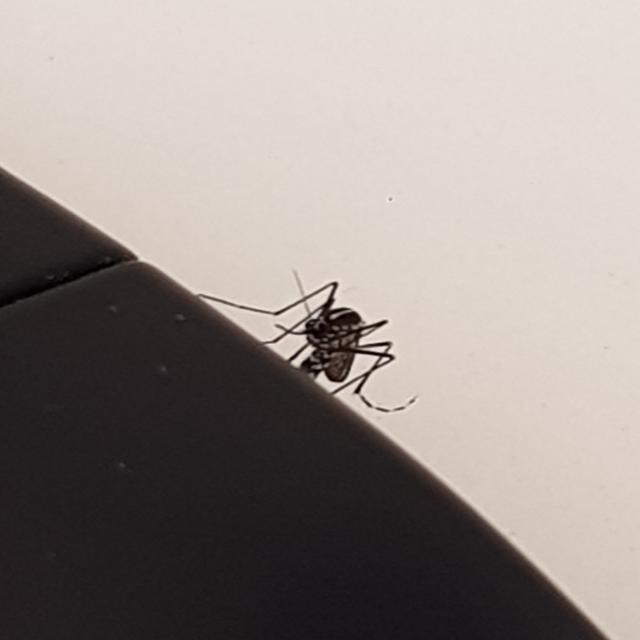albopictus: (181, 260, 423, 414)
